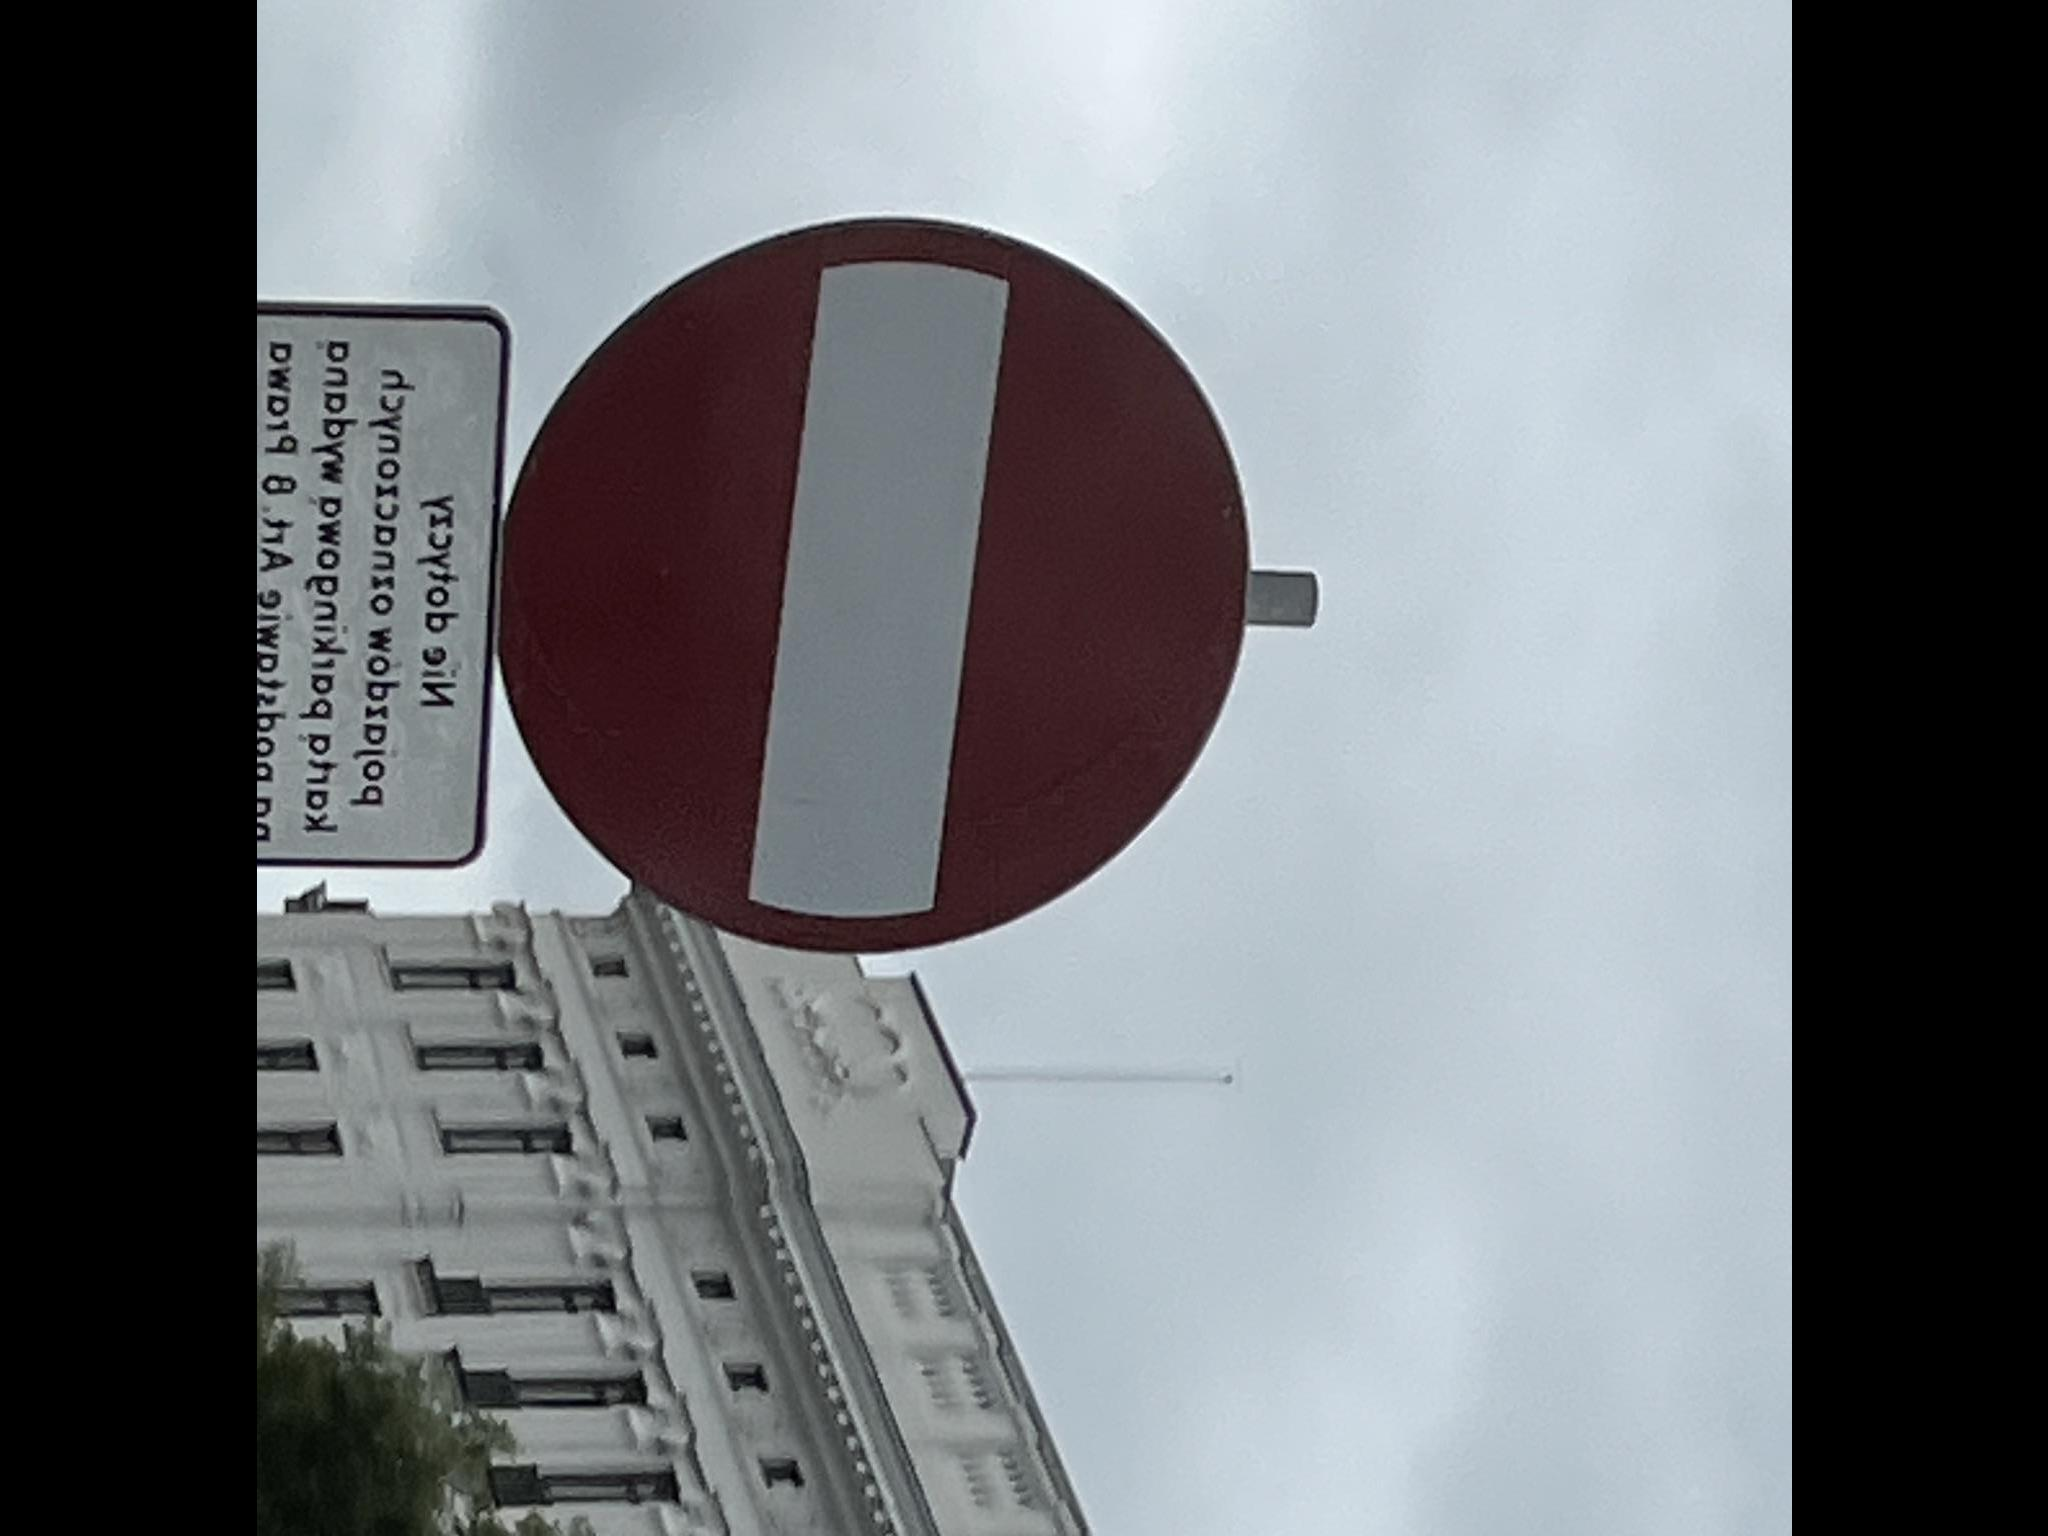other: (256, 302, 506, 876)
prohibitory: (497, 218, 1248, 954)
